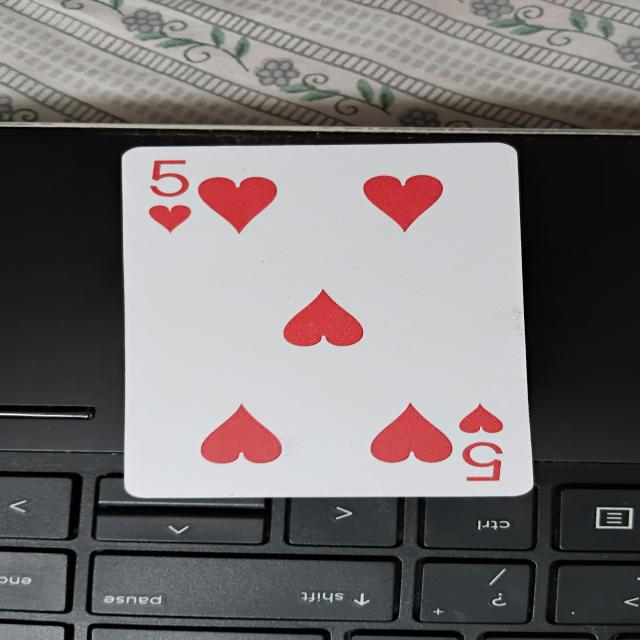5H: (116, 141, 530, 497)
